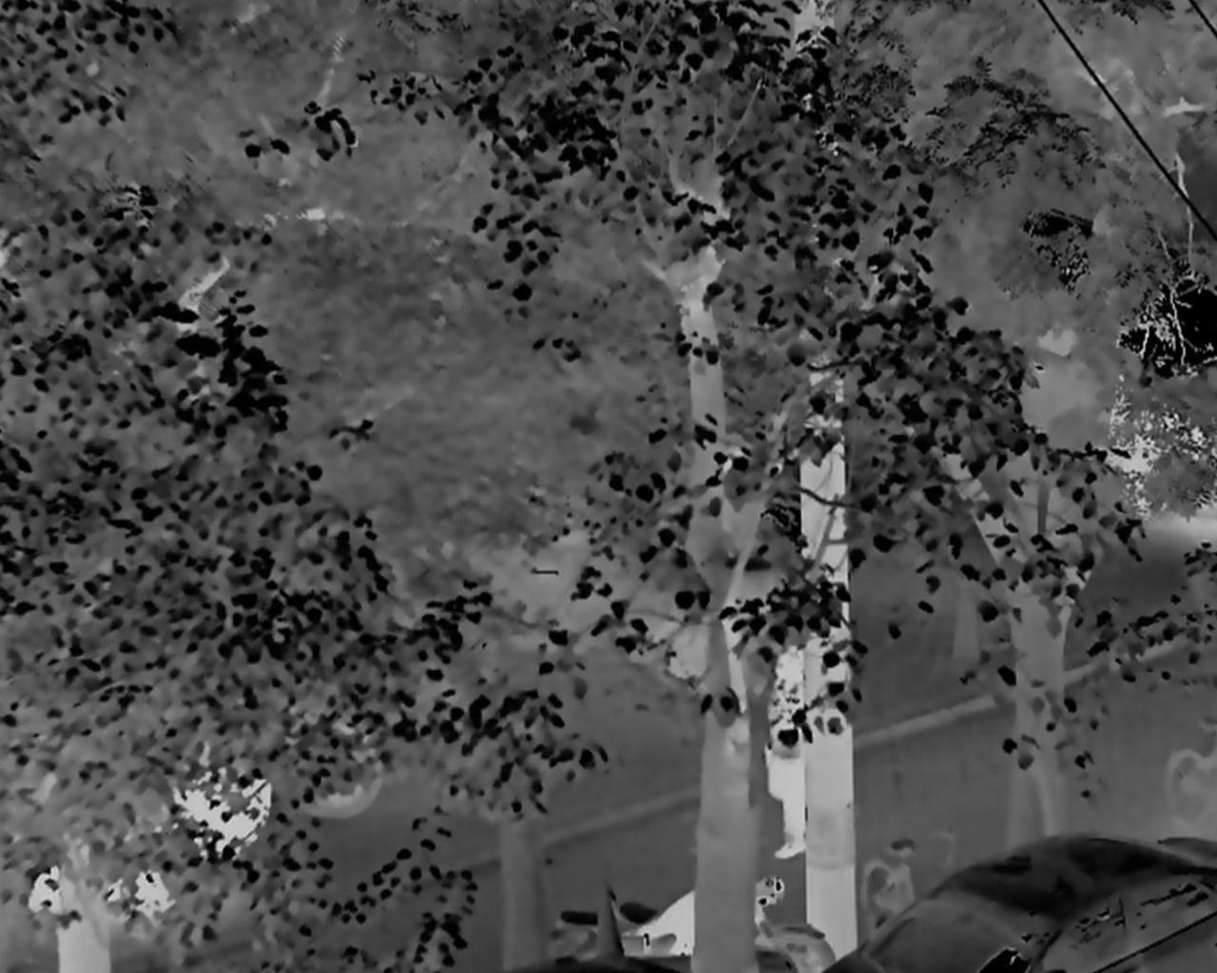person: (763, 642, 806, 861)
